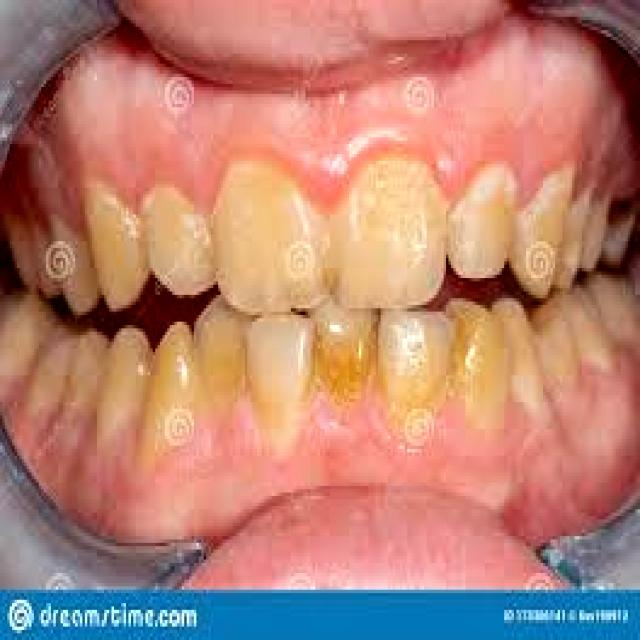tooth-discoloration: (327, 157, 446, 305), (213, 161, 291, 312), (378, 312, 451, 432), (85, 184, 148, 308), (141, 322, 196, 462), (448, 302, 509, 426), (313, 302, 376, 395), (194, 295, 247, 405)
